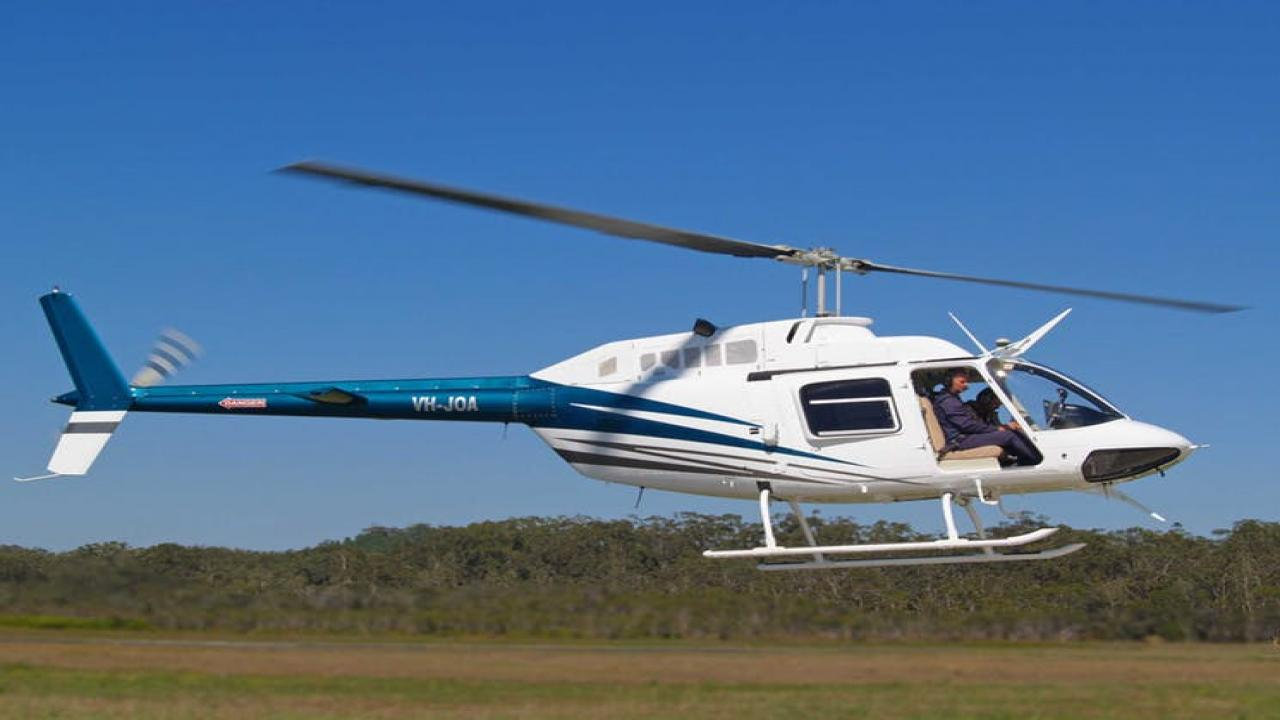Helicopter: (18, 144, 1260, 588)
